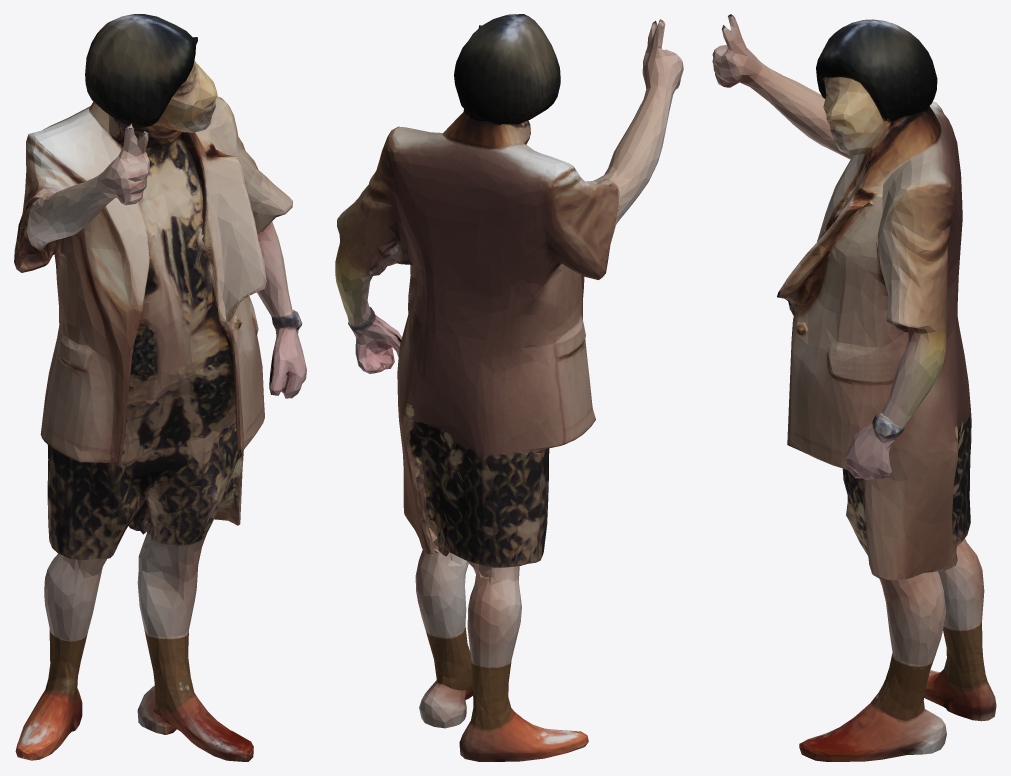
3 views of the same model, side by side, from view 1: azimuth 30°, elevation 25°; view 2: azimuth 150°, elevation 25°; view 3: azimuth 270°, elevation 25° (orthographic). The views are drawn at different scales.
Parts seen in each view (by area): view 1: world; view 2: world; view 3: world.
Part boxes in pixels (x1,y1,x2,y2): world: (14, 14, 306, 761); world: (335, 14, 683, 761); world: (712, 14, 996, 761).
Size of the model in its own units: 0.4073 by 1 by 0.3677.
Materials: 1 (1 with a texture image).
